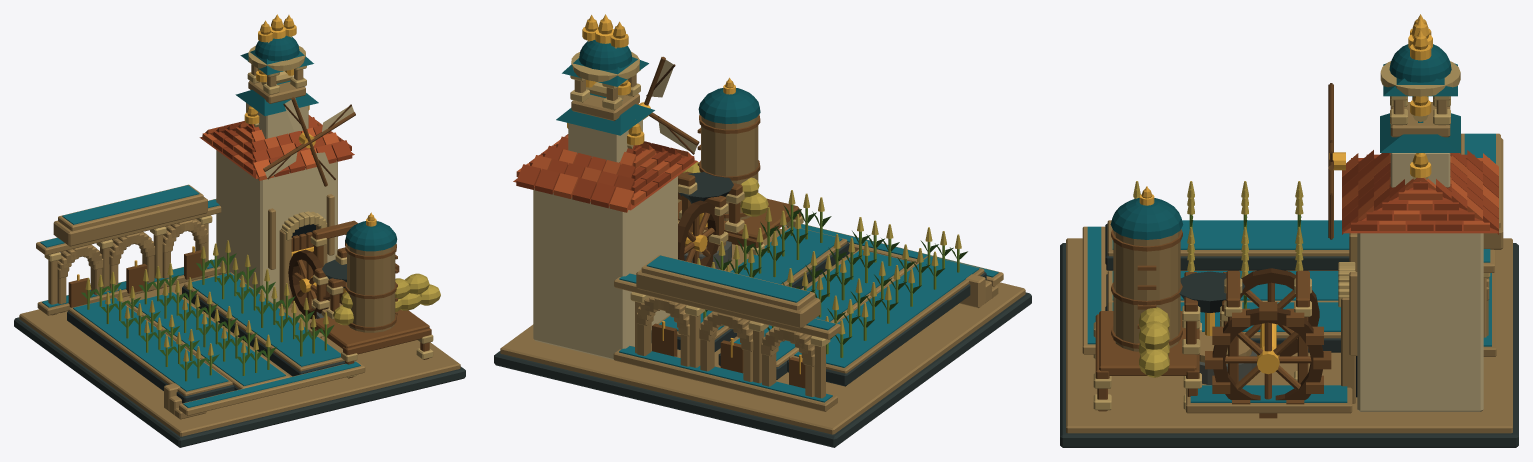
3 renders of one model, left to right at view 1: azimuth 30°, elevation 25°; view 2: azimuth 150°, elevation 25°; view 3: azimuth 270°, elevation 25°, orthographic. The views are drawn at different scales.
Visible parts, largest first — view 1: farm_15_structure, farm_15_metal; view 2: farm_15_structure, farm_15_metal; view 3: farm_15_structure, farm_15_metal.
Part boxes in pixels (x1,y1,x2,y2): farm_15_structure: (14, 18, 465, 447); farm_15_metal: (77, 14, 376, 293); farm_15_structure: (494, 19, 1031, 447); farm_15_metal: (567, 14, 802, 374); farm_15_structure: (1060, 19, 1518, 447); farm_15_metal: (1139, 14, 1432, 374).
Size of the model in its own units: 5.6 by 5.15 by 5.46.
